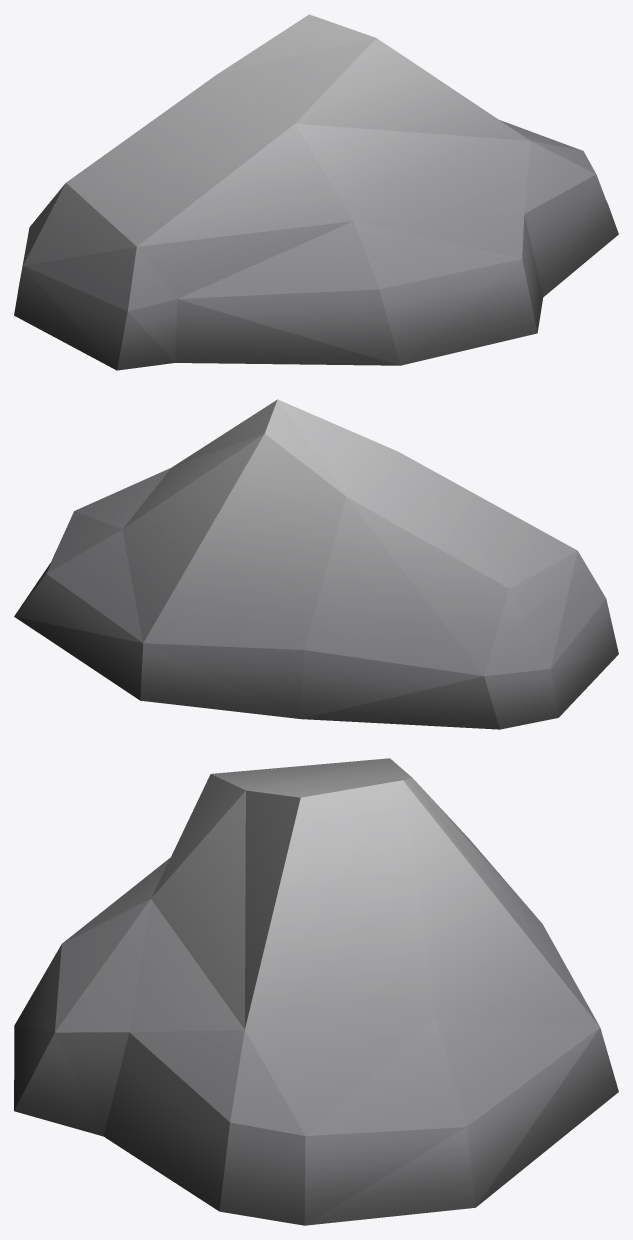
File: RockMed-04.FBX
3 views of the same model, one above another, from view 1: azimuth 30°, elevation 25°; view 2: azimuth 150°, elevation 25°; view 3: azimuth 270°, elevation 25° (orthographic). The views are drawn at different scales.
Visible parts, largest first — view 1: RockMed-04; view 2: RockMed-04; view 3: RockMed-04.
Part boxes in pixels (<box>): RockMed-04: <box>14,14,618,370</box>; RockMed-04: <box>14,399,618,729</box>; RockMed-04: <box>14,758,618,1225</box>.
Size of the model in its own units: 199 by 76.47 by 147.
Materials: 1 (1 with a texture image).
